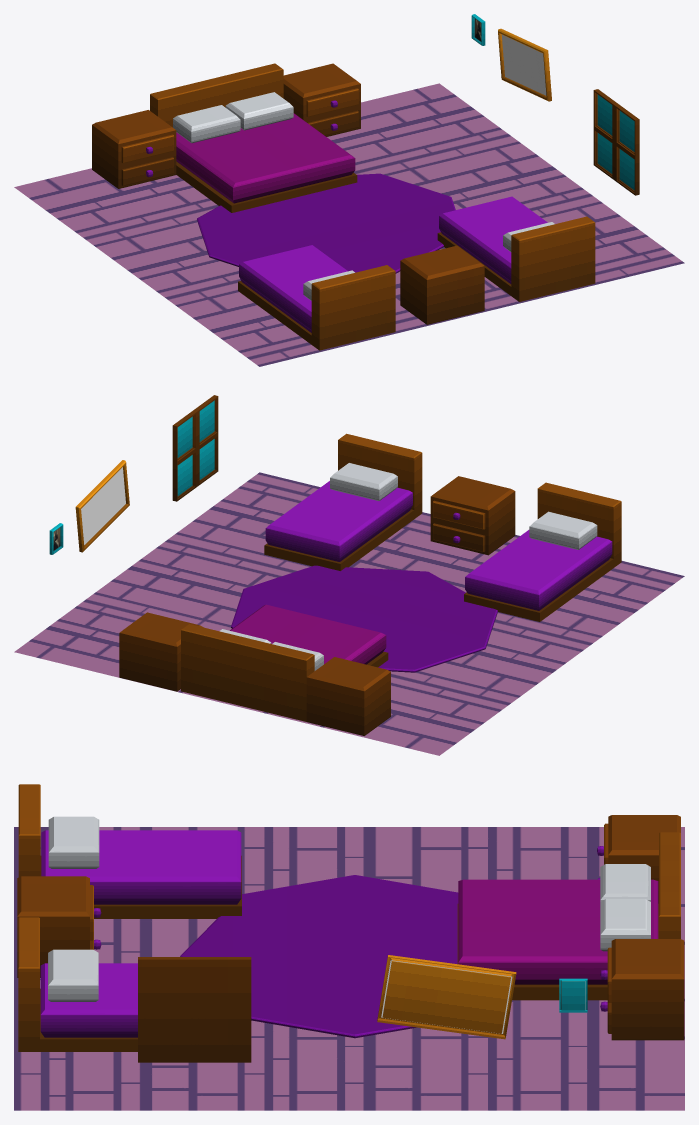
File: s1_Bedroom2_v2.fbx
3 renders of one model, top to bottom at view 1: azimuth 30°, elevation 25°; view 2: azimuth 150°, elevation 25°; view 3: azimuth 270°, elevation 25°, orthographic. The views are drawn at different scales.
Visible parts, largest first — view 1: s1_Bedroom2_v2; view 2: s1_Bedroom2_v2; view 3: s1_Bedroom2_v2.
Part boxes in pixels (box(x1,y1,x2,y2)): s1_Bedroom2_v2: box(14, 14, 684, 366); s1_Bedroom2_v2: box(14, 395, 684, 755); s1_Bedroom2_v2: box(14, 784, 684, 1110).
Bounding box in the file's own units: 900 × 228 × 900.
